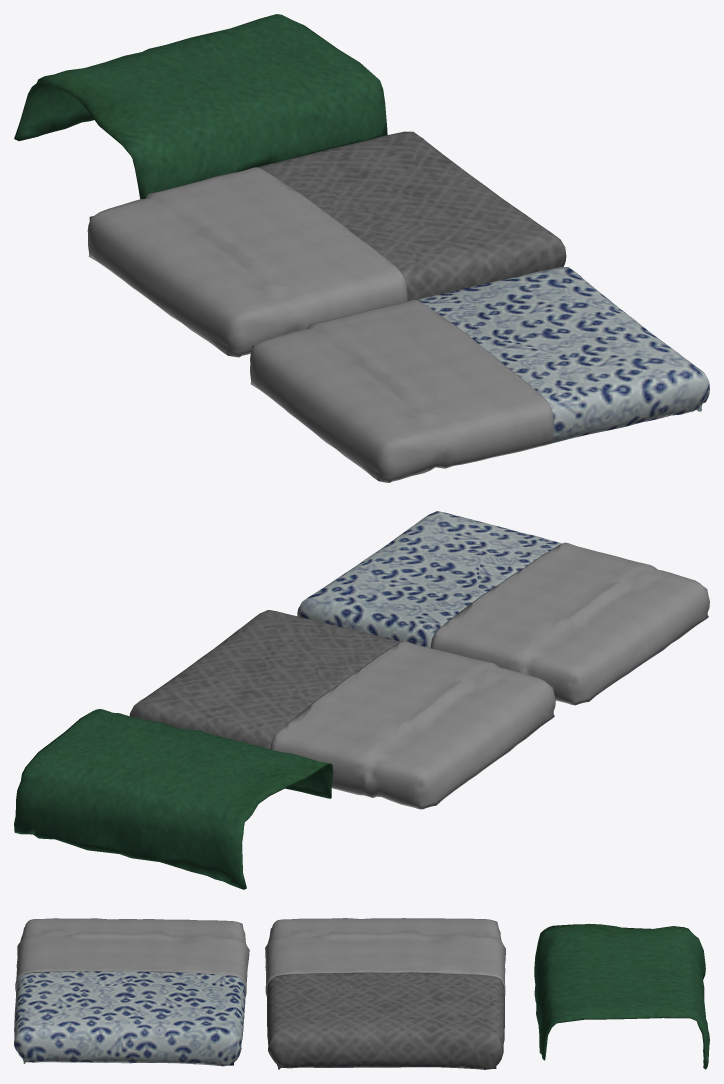
The model's file is bedsheet_faces .fbx.
3 views of the same model, one above another, from view 1: azimuth 30°, elevation 25°; view 2: azimuth 150°, elevation 25°; view 3: azimuth 270°, elevation 25° (orthographic). The views are drawn at different scales.
Parts seen in each view (by area): view 1: bedsheet_2.004, bedsheet_1, single_bedsheed_1; view 2: bedsheet_2.004, bedsheet_1, single_bedsheed_1; view 3: bedsheet_2.004, bedsheet_1, single_bedsheed_1.
Boxes of the visible parts, x1=… form: bedsheet_2.004: x1=87, y1=131, x2=566, y2=357; bedsheet_1: x1=250, y1=267, x2=709, y2=482; single_bedsheed_1: x1=14, y1=14, x2=387, y2=199; bedsheet_2.004: x1=129, y1=610, x2=555, y2=809; bedsheet_1: x1=297, y1=511, x2=709, y2=705; single_bedsheed_1: x1=14, y1=709, x2=333, y2=889; bedsheet_2.004: x1=265, y1=918, x2=505, y2=1069; bedsheet_1: x1=14, y1=918, x2=249, y2=1066; single_bedsheed_1: x1=534, y1=924, x2=709, y2=1069.
Bounding box in the file's own units: 1.91 × 0.3933 × 4.28.
